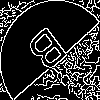B: (25, 25, 75, 81)
